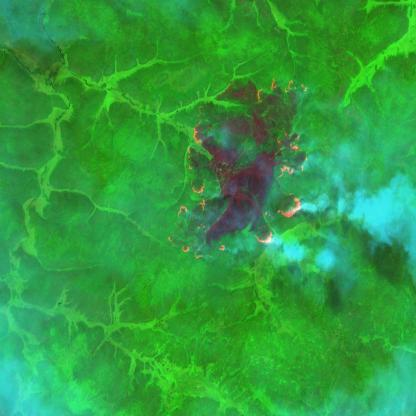fire: (166, 123, 227, 265), (252, 74, 309, 178), (253, 193, 305, 250)
